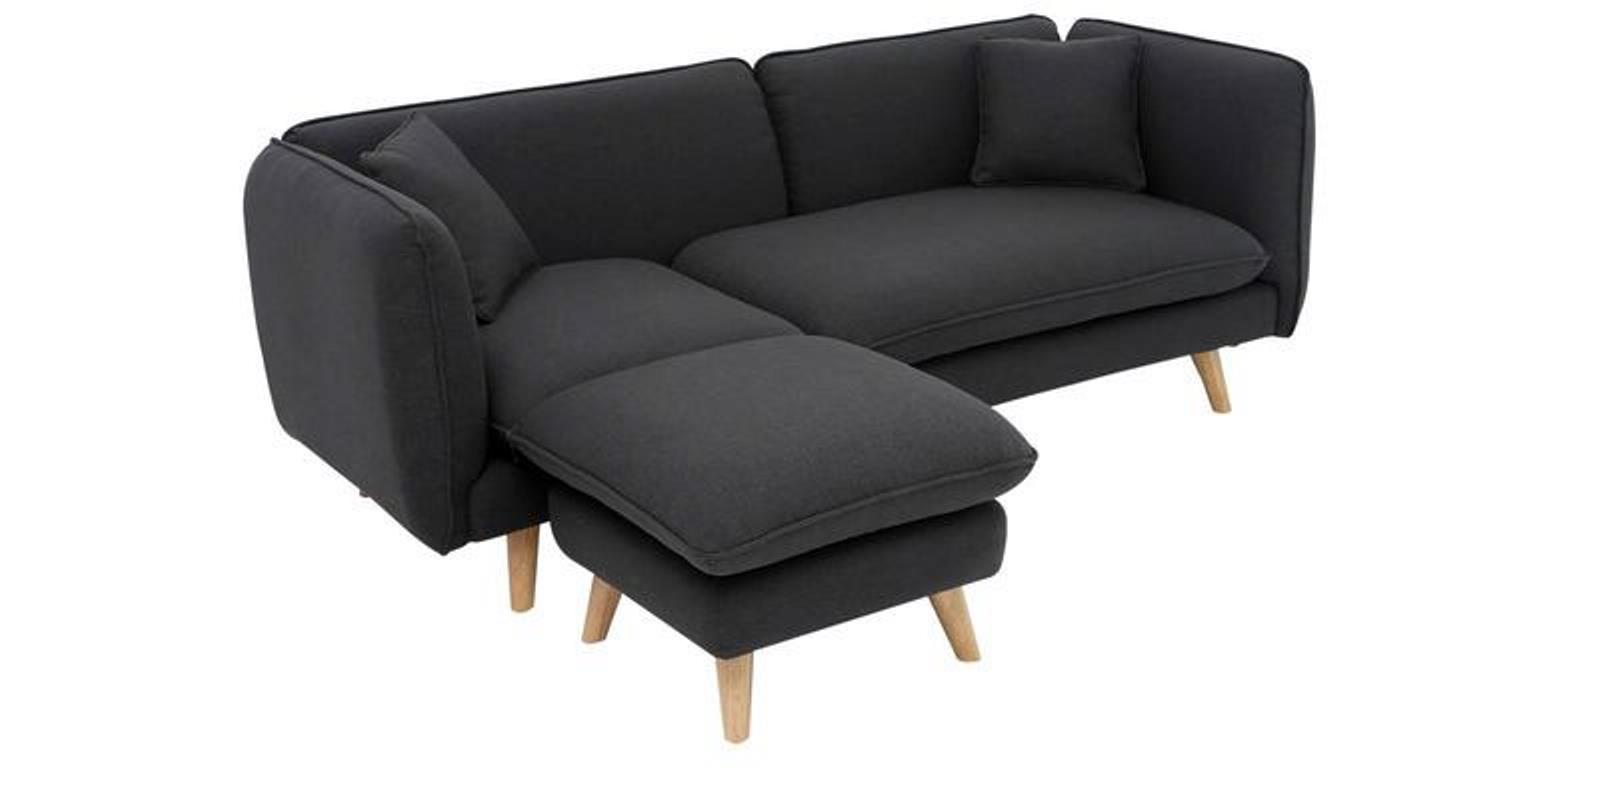Gloria Three Seater Sofa with Ottoman in Grey Colour by CasaCraft: (200, 5, 1339, 758)
